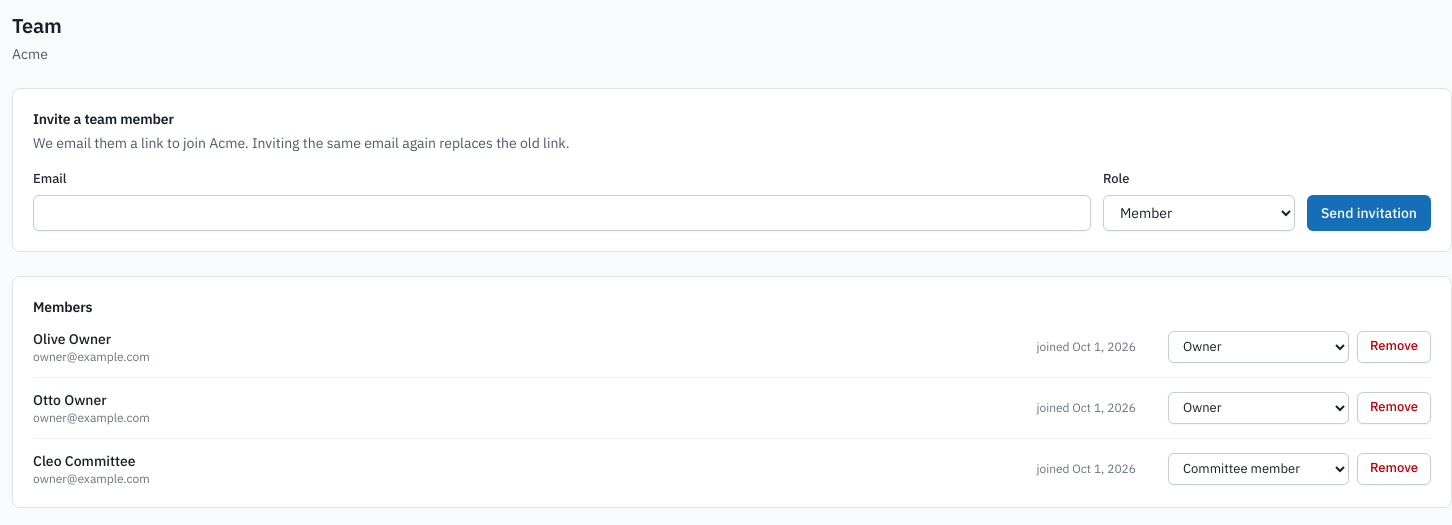
Test case: TeamPage › names the person's role when confirming a removal
Click the button "Remove" in the row of "Otto Owner" at (1394, 408), box [1357,392,1431,424]
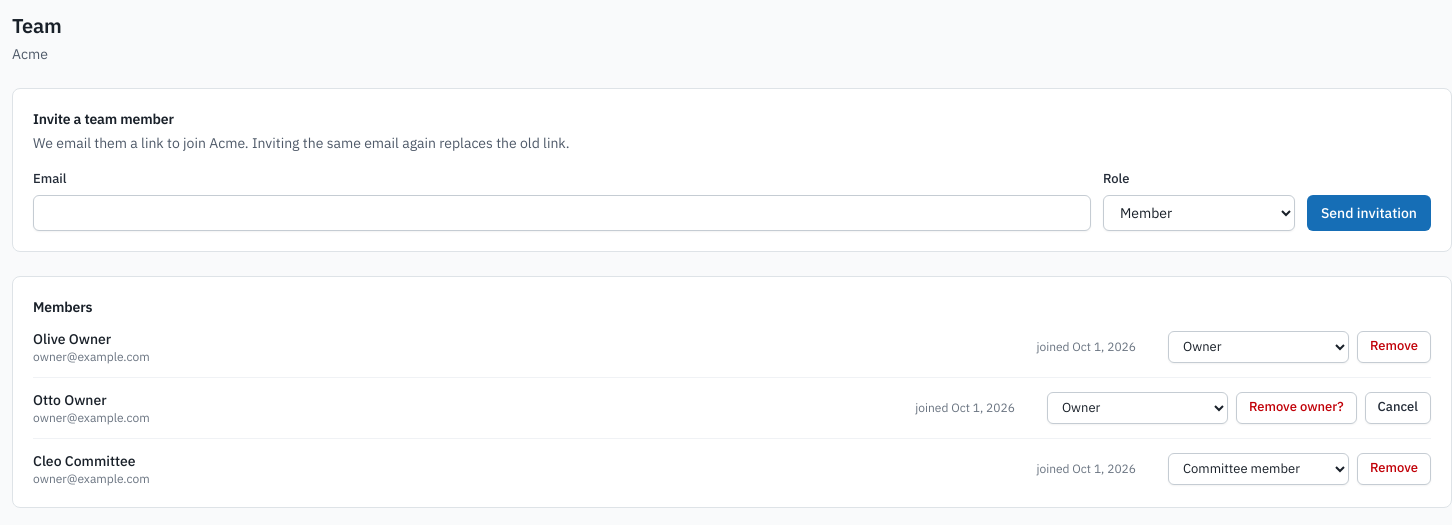
Result: the button "Remove owner?" is shown at [1236,392,1357,424]
Click the button "Remove" in the row of "Cleo Committee" at (1394, 468), box [1357,452,1431,484]
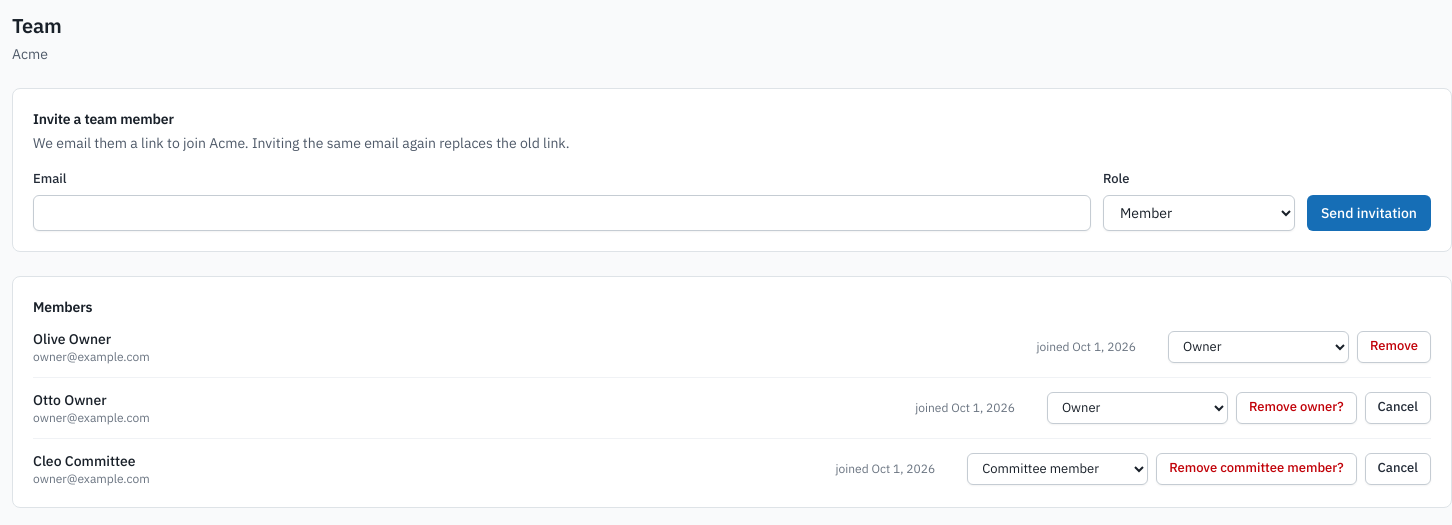
Result: the button "Remove committee member?" is shown at [1156,452,1357,484]
